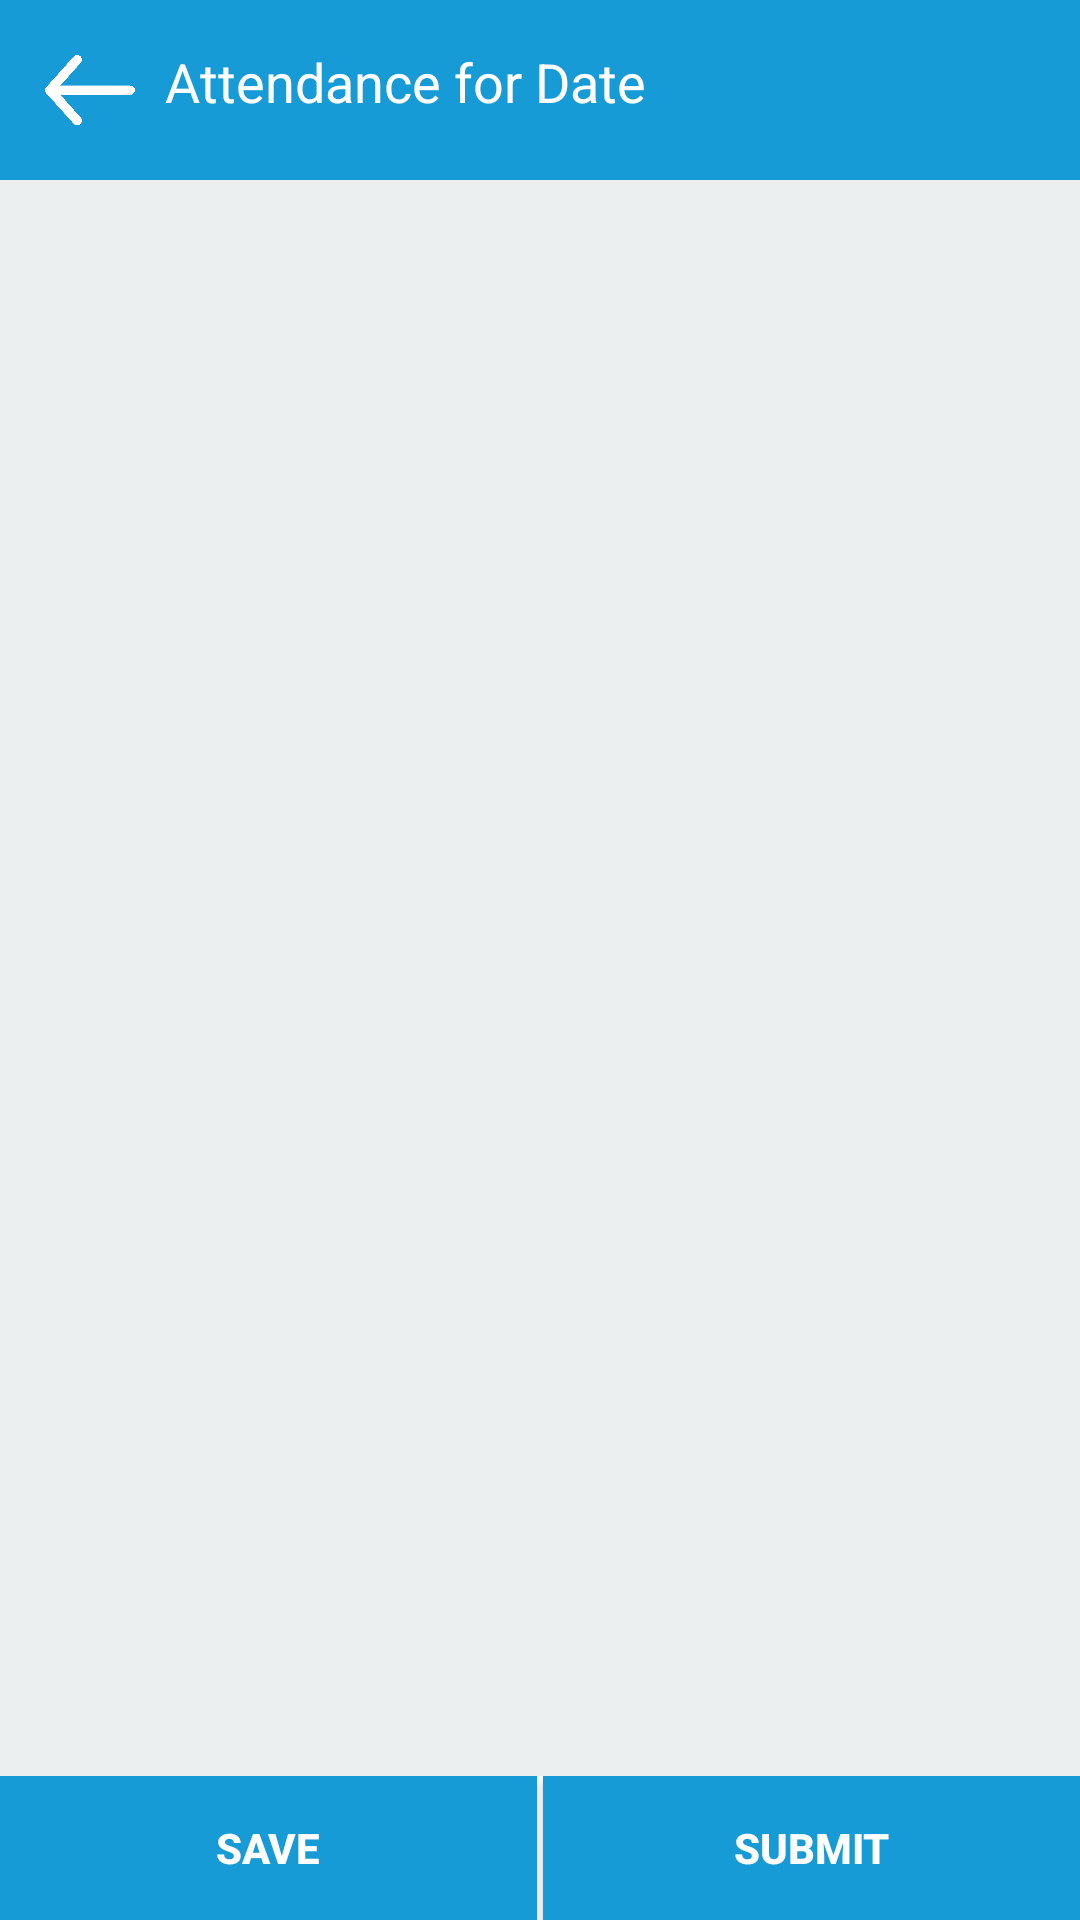

Named icons in this screenshot (1080 × 1920) and their bounding boxes, (left=x1, top=y1, right=x2, bottom=y2):
back: (left=45, top=55, right=135, bottom=125)
